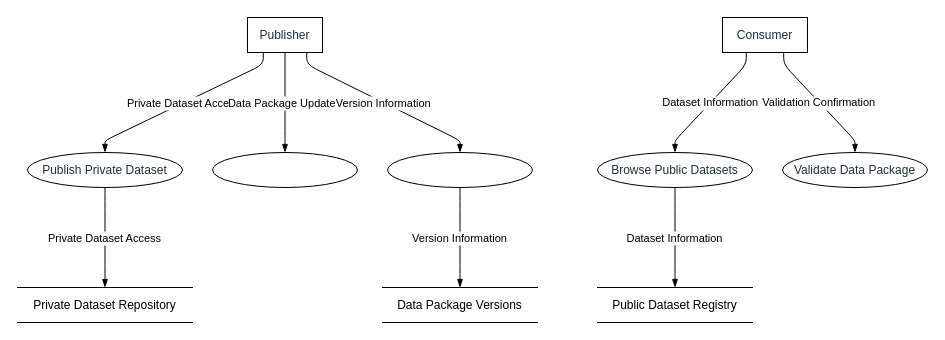
Some shapes in this 945 by 340 pixel diagram are drawn without their labels. Here are the shapes that lost their labels. From the top down, the box of each, then its label:
(212, 152, 358, 188): Update Data Package
(386, 152, 532, 188): Version Data Package
